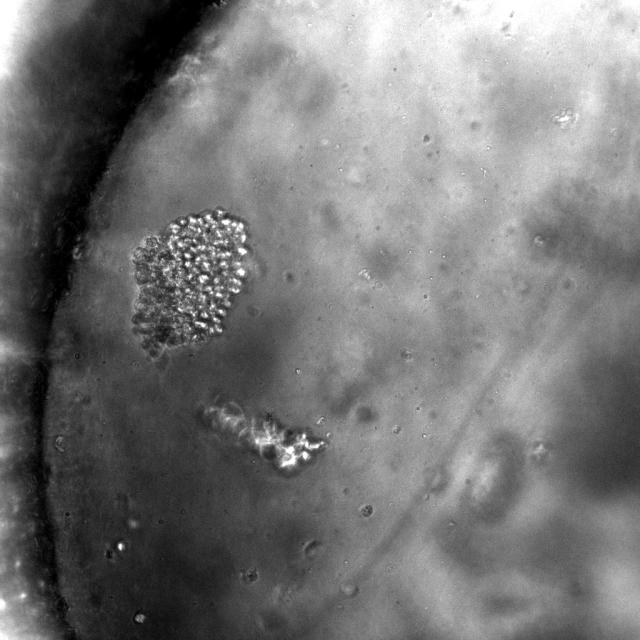organoid: (132, 208, 248, 357), (200, 401, 327, 475)
